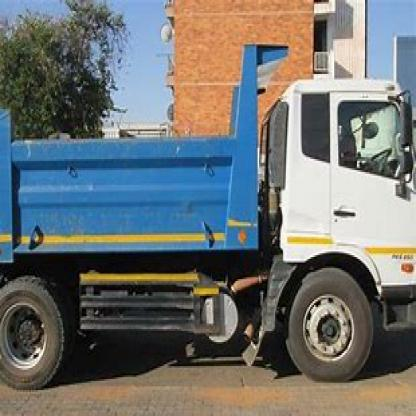dump_truck: (3, 35, 414, 383)
